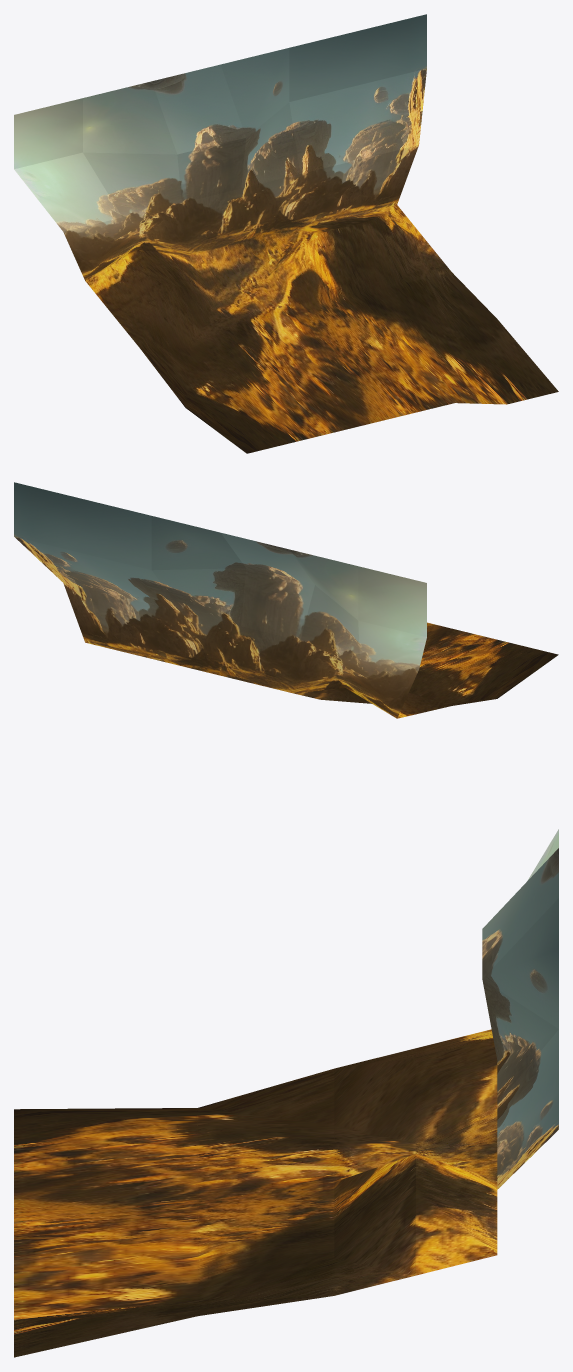
The model's file is landscape.glb.
3 views of the same model, one above another, from view 1: azimuth 30°, elevation 25°; view 2: azimuth 150°, elevation 25°; view 3: azimuth 270°, elevation 25° (orthographic). The views are drawn at different scales.
Parts seen in each view (by area): view 1: landscape; view 2: landscape; view 3: landscape.
Boxes of the visible parts, <box> form: landscape: <box>14,14,558,453</box>; landscape: <box>14,482,558,718</box>; landscape: <box>14,829,558,1357</box>.
Size of the model in its own units: 1.99 by 1.06 by 1.52.
1 material, 1 textured.
